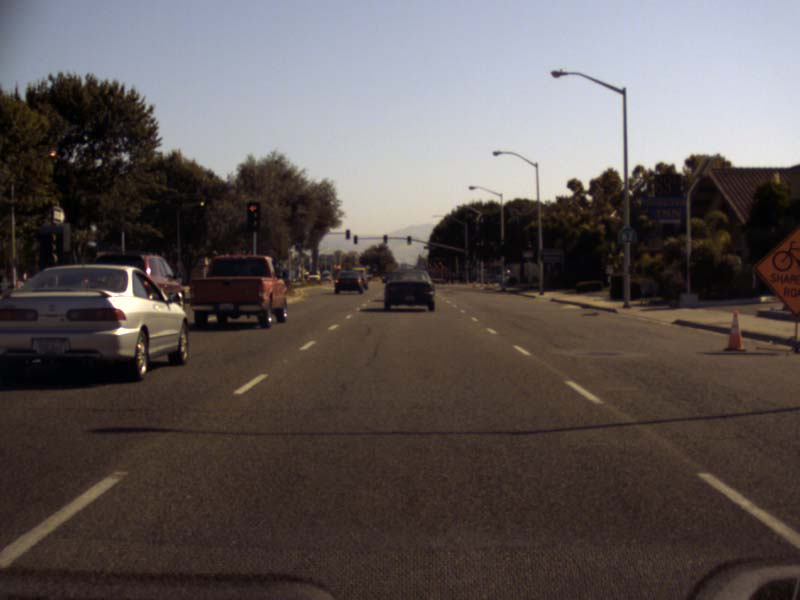Green: (406, 234, 411, 244), (383, 234, 388, 243)
Red: (246, 201, 260, 232), (353, 234, 357, 244)
